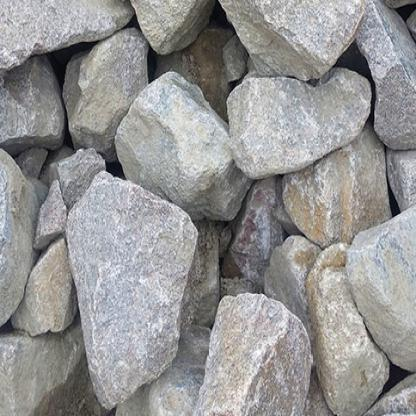Igneous_Granite: (68, 146, 194, 412), (112, 69, 264, 212), (215, 0, 394, 84), (207, 280, 310, 415), (343, 212, 415, 376), (0, 0, 131, 89), (0, 151, 48, 354)
